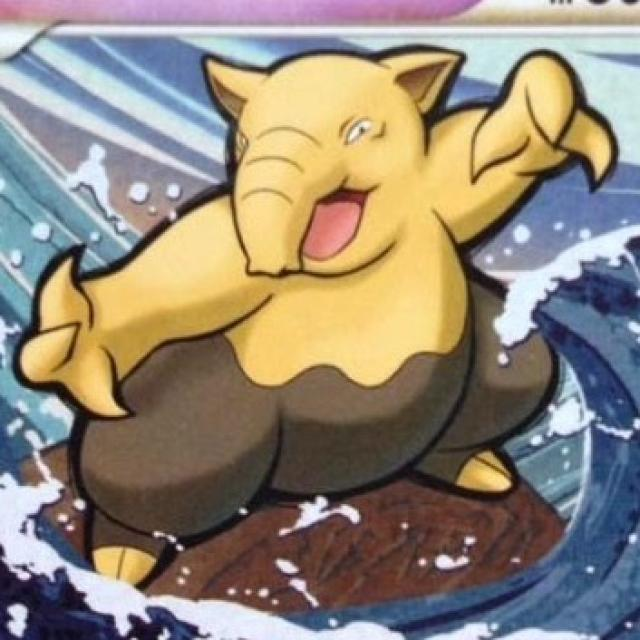Drowzee: (18, 48, 620, 580)
